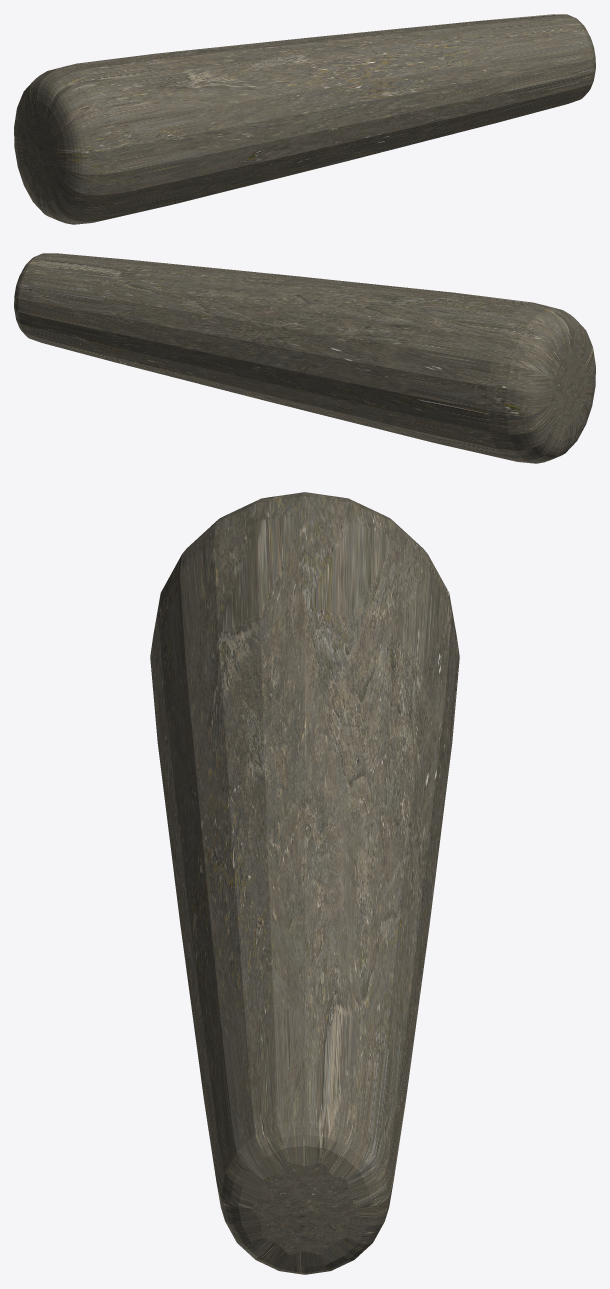
The model's file is pestle.fbx.
The picture shows the model from 3 angles, top to bottom: view 1: azimuth 30°, elevation 25°; view 2: azimuth 150°, elevation 25°; view 3: azimuth 270°, elevation 25°; orthographic projection. The views are drawn at different scales.
Visible parts, largest first — view 1: pestle; view 2: pestle; view 3: pestle.
Boxes of the visible parts, x1=… form: pestle: x1=14, y1=14, x2=595, y2=224; pestle: x1=14, y1=253, x2=595, y2=463; pestle: x1=150, y1=492, x2=459, y2=1274.
Bounding box in the file's own units: 140 × 36.66 × 34.53.
Materials: 1 (1 with a texture image).
